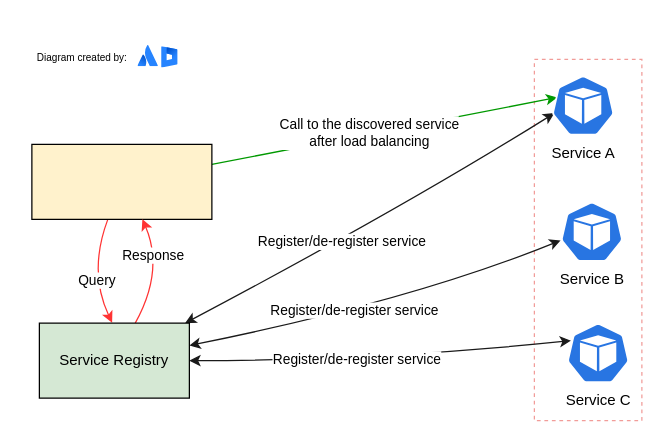
Some shapes in this 664 by 443 pixel diagram are drawn without their labels. Each missing label, with the box of its shape:
Registry Clients: (533, 58, 642, 421)
Service X (Registry aware client): (31, 143, 212, 219)
